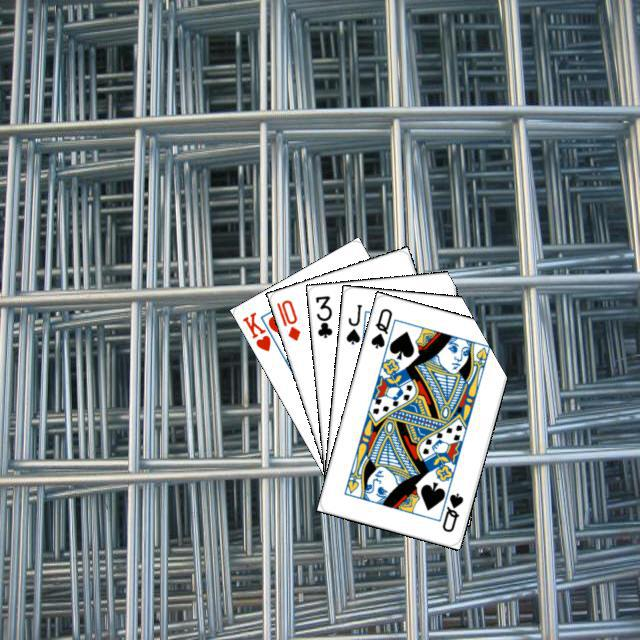10d: (272, 295, 302, 343)
3c: (310, 291, 334, 340)
Js: (341, 299, 363, 346)
Kh: (237, 307, 282, 353)
Qs: (366, 303, 394, 350), (437, 488, 465, 534)
